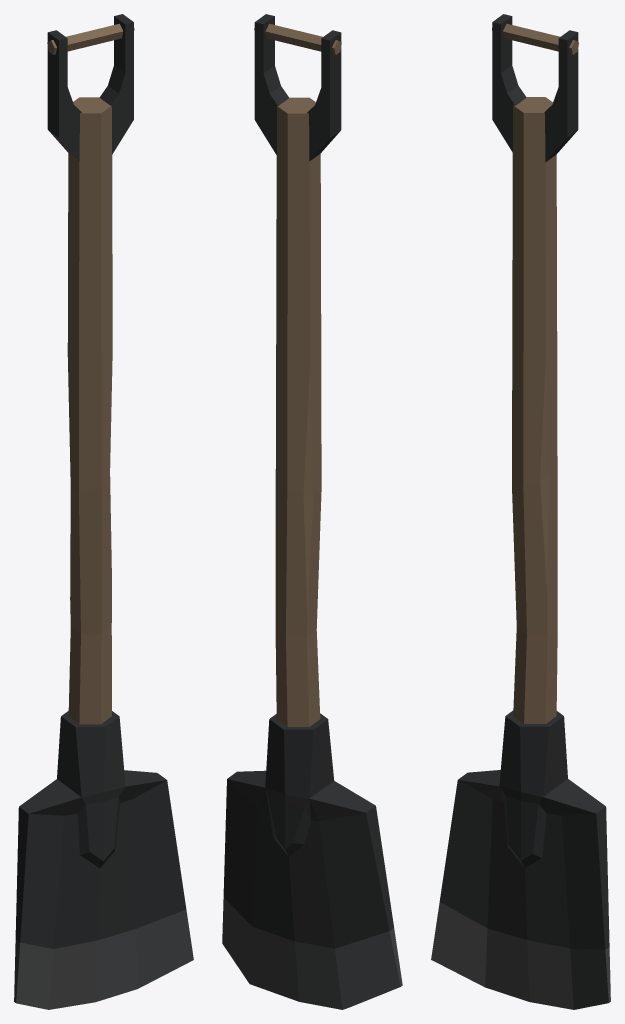
File: SM_Props_Farm_Tool_Showel.fbx
3 views of the same model, side by side, from view 1: azimuth 30°, elevation 25°; view 2: azimuth 150°, elevation 25°; view 3: azimuth 330°, elevation 25° (orthographic).
Parts seen in each view (by area): view 1: SM_Props_Farm_Tool_Showel; view 2: SM_Props_Farm_Tool_Showel; view 3: SM_Props_Farm_Tool_Showel.
Boxes of the visible parts, x1,y1,x2,y2 form: SM_Props_Farm_Tool_Showel: [14, 14, 193, 1009]; SM_Props_Farm_Tool_Showel: [222, 14, 402, 1009]; SM_Props_Farm_Tool_Showel: [431, 14, 610, 1009].
Bounding box in the file's own units: 22.26 × 116 × 6.39.
